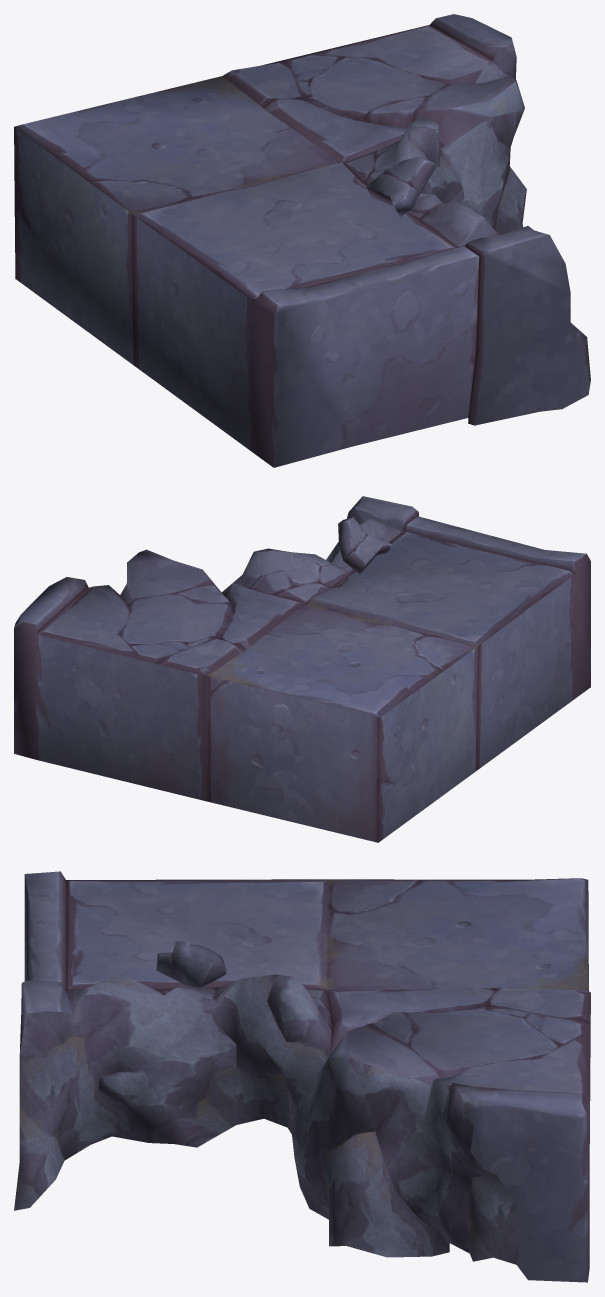
The model's file is SleepingGarden_Floor_03.fbx.
3 renders of one model, top to bottom at view 1: azimuth 30°, elevation 25°; view 2: azimuth 150°, elevation 25°; view 3: azimuth 270°, elevation 25°, orthographic. The views are drawn at different scales.
Visible parts, largest first — view 1: SleepingGarden_Floor_03; view 2: SleepingGarden_Floor_03; view 3: SleepingGarden_Floor_03.
Part boxes in pixels (x1,y1,x2,y2): SleepingGarden_Floor_03: (14, 14, 590, 467); SleepingGarden_Floor_03: (14, 496, 590, 842); SleepingGarden_Floor_03: (14, 871, 590, 1282).
Size of the model in its own units: 5.12 by 2.3 by 5.2.
Materials: 2 (2 with a texture image).
